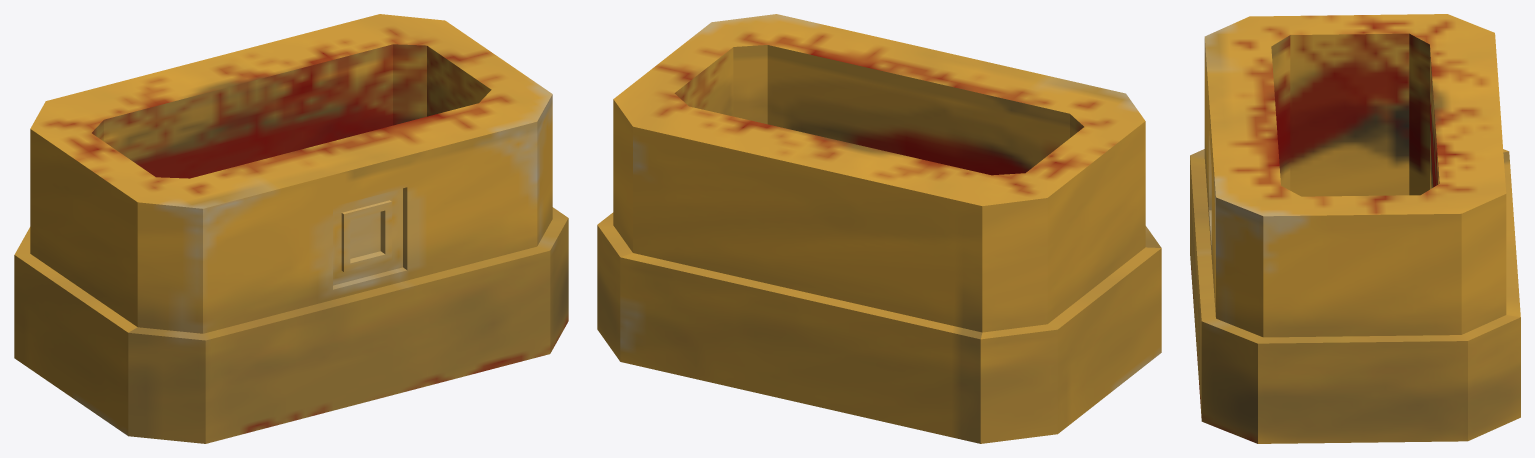
File: grinder.glb
3 views of the same model, side by side, from view 1: azimuth 30°, elevation 25°; view 2: azimuth 150°, elevation 25°; view 3: azimuth 270°, elevation 25° (orthographic). The views are drawn at different scales.
Parts seen in each view (by area): view 1: Grinder_base; view 2: Grinder_base; view 3: Grinder_base.
Boxes of the visible parts, x1,y1,x2,y2 form: Grinder_base: (14,14,568,443); Grinder_base: (597,14,1161,443); Grinder_base: (1190,14,1520,443).
Bounding box in the file's own units: 2.15 × 1.03 × 1.4.
Materials: 1 (1 with a texture image).
